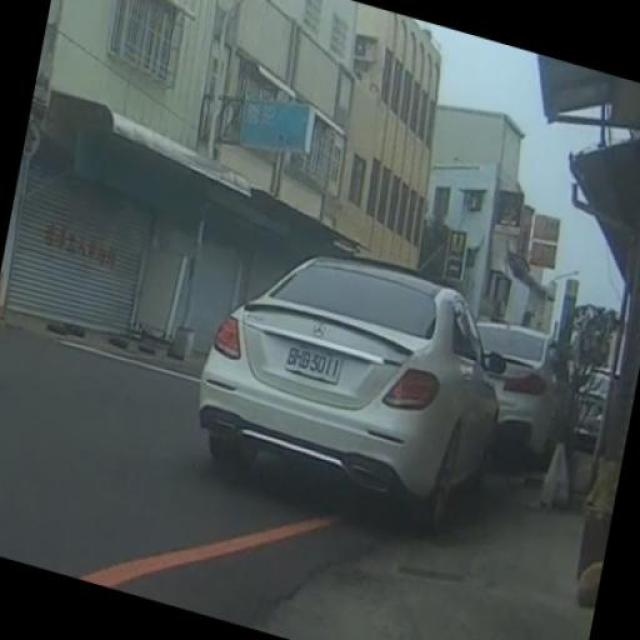illegalparking: (170, 193, 596, 590)
